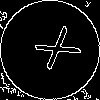X: (25, 25, 82, 77)
